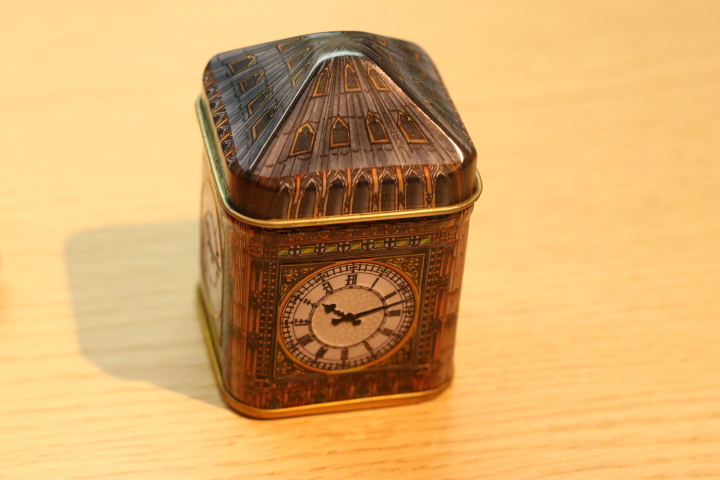Big Ben: (178, 21, 488, 435)
